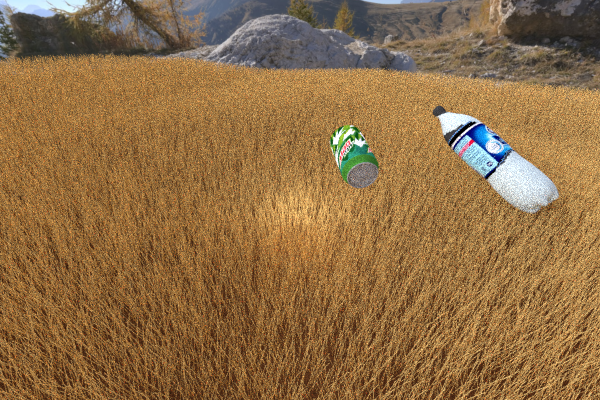bottle: (432, 105, 558, 213)
can: (329, 125, 378, 188), (202, 101, 255, 128)
